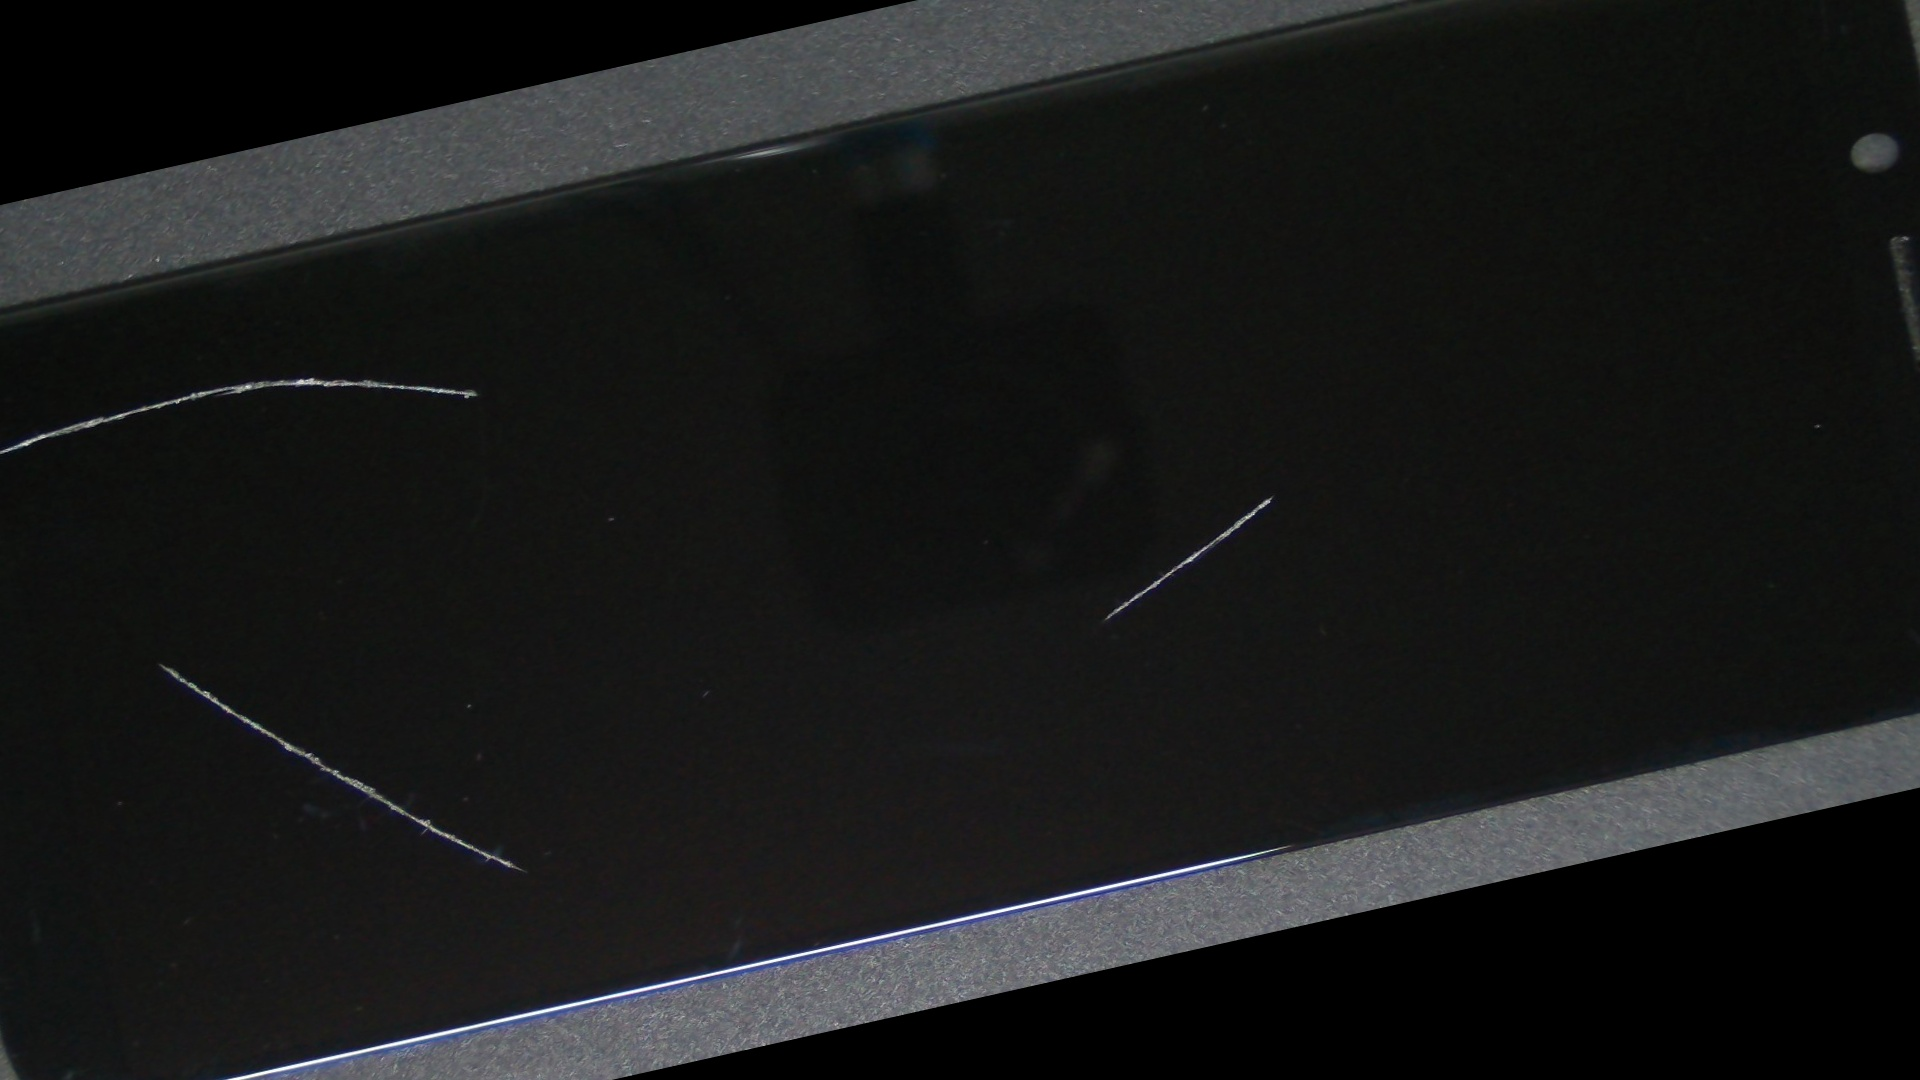oil: (542, 71, 1920, 918), (0, 401, 330, 923), (3, 245, 382, 538)
